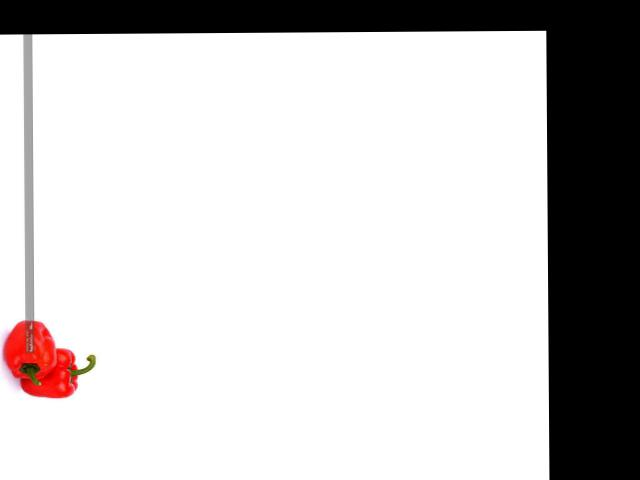bell_pepper: (4, 313, 61, 384)
